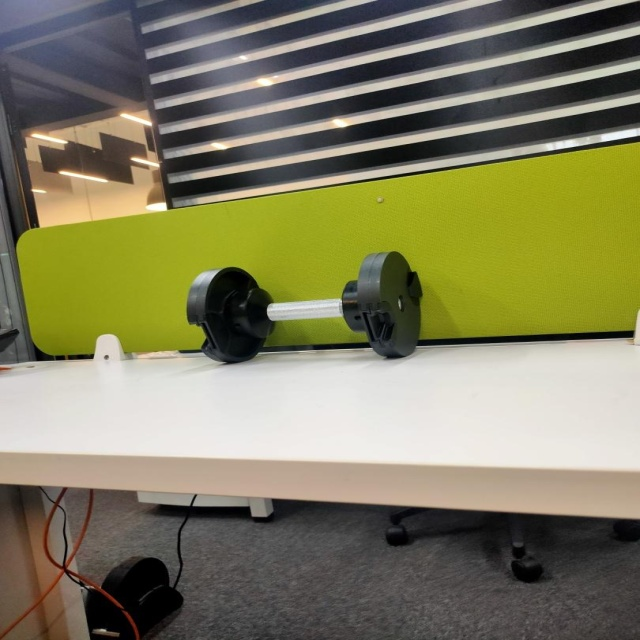03-6kg: (186, 251, 423, 365)
